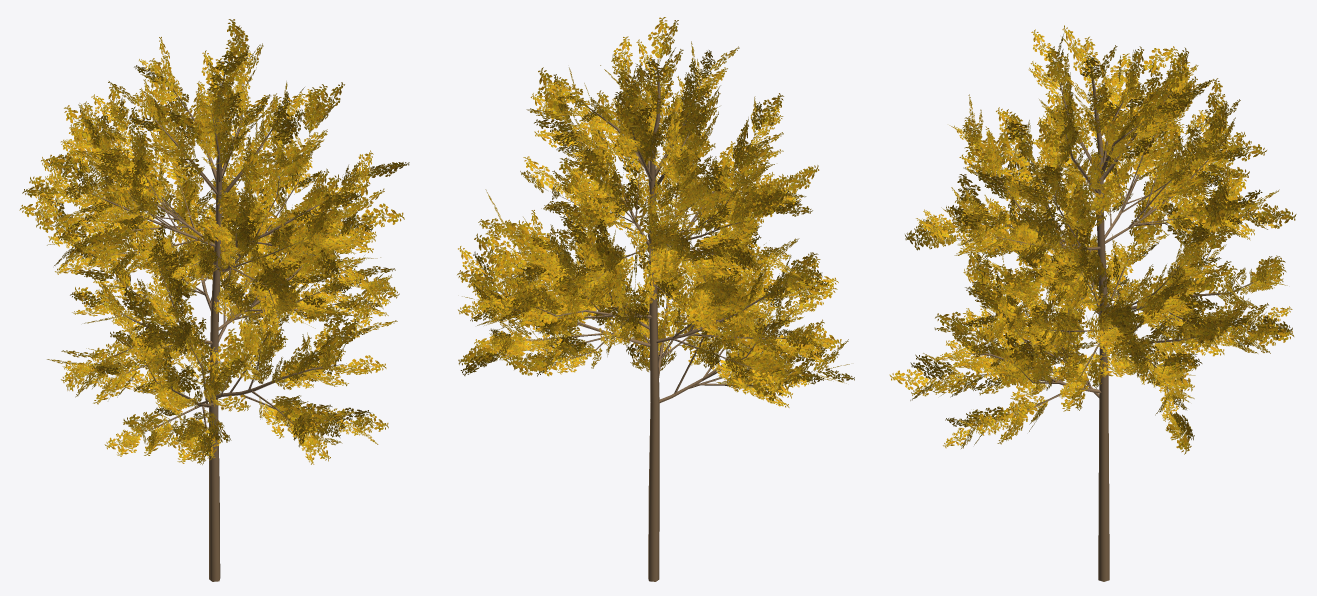
File: tree1_lod1.glb
3 renders of one model, left to right at view 1: azimuth 30°, elevation 25°; view 2: azimuth 150°, elevation 25°; view 3: azimuth 270°, elevation 25°, orthographic.
Visible parts, largest first — view 1: leaves, trunk; view 2: leaves, trunk; view 3: leaves, trunk.
Boxes of the visible parts, bbox=[...] form: leaves: bbox=[19, 19, 409, 464]; trunk: bbox=[62, 72, 364, 581]; leaves: bbox=[457, 17, 854, 407]; trunk: bbox=[500, 59, 807, 581]; leaves: bbox=[889, 25, 1296, 454]; trunk: bbox=[941, 64, 1257, 581].
Bounding box in the file's own units: 0.6526 × 1 × 0.6797.
2 materials, 1 textured.
